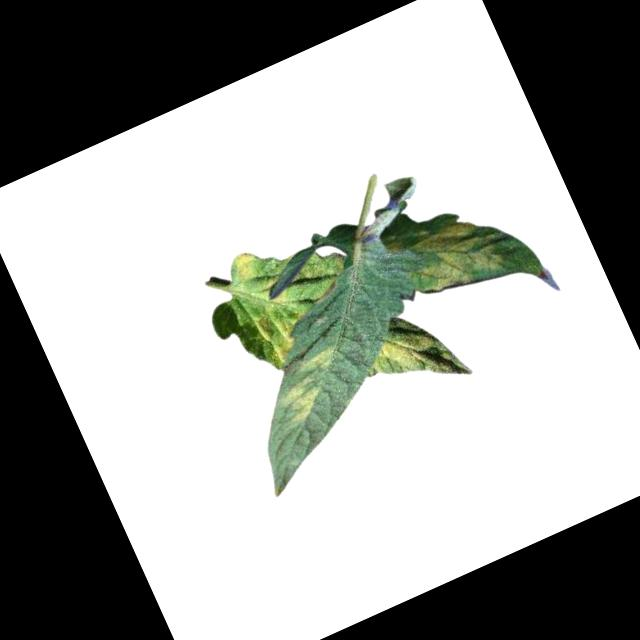Leaf_Mold: (382, 200, 505, 308), (363, 303, 472, 407), (265, 341, 357, 426), (252, 302, 310, 367), (224, 247, 262, 286), (258, 271, 291, 306)
